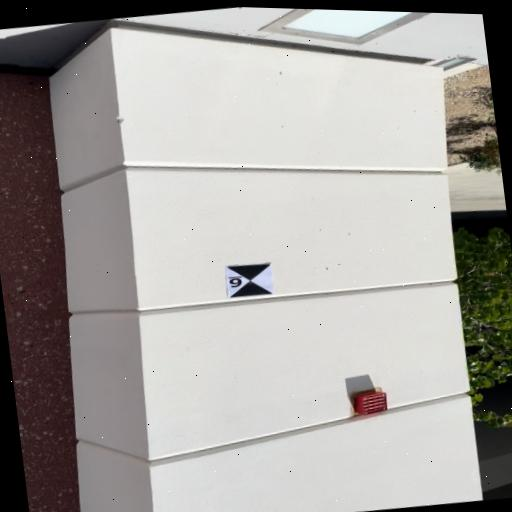target6: (226, 263, 272, 298)
